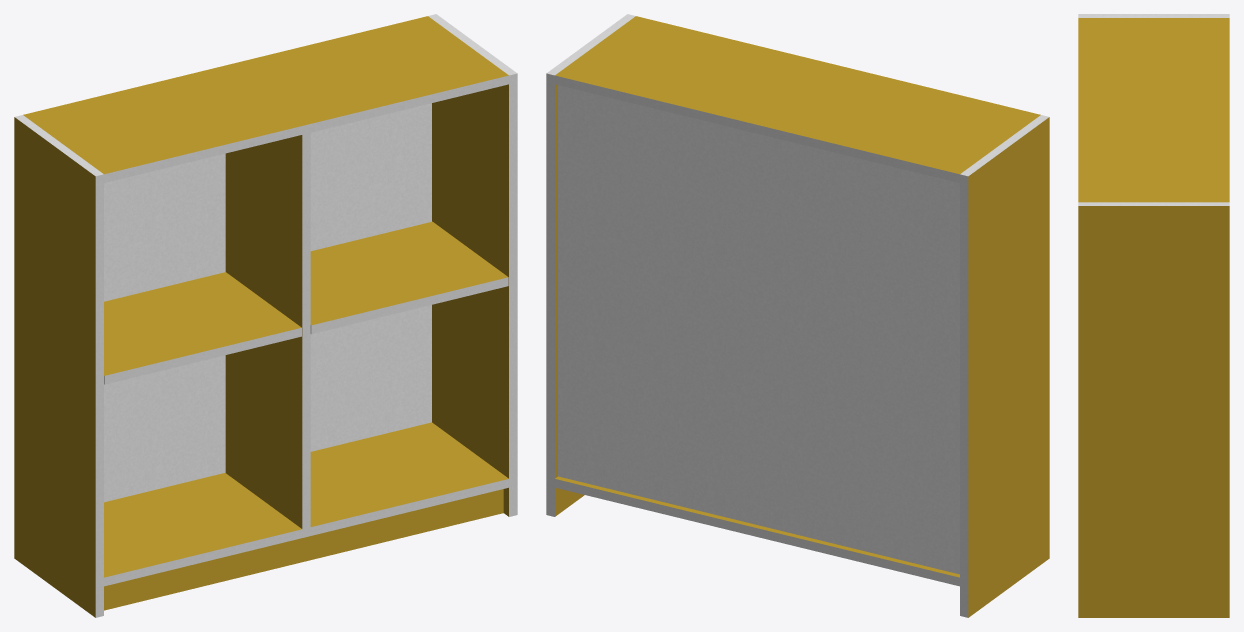
File: FET-KBK-low.glb
The picture shows the model from 3 angles, left to right: view 1: azimuth 30°, elevation 25°; view 2: azimuth 150°, elevation 25°; view 3: azimuth 270°, elevation 25°; orthographic projection. The views are drawn at different scales.
Parts seen in each view (by area): view 1: back:sheet:eyJtIjoibWRmIiwic2lkZSI6ImZhY2UiLCJzZWVkIjoxLCJ0a, side-l:pbr, top:pbr, bottom:pbr, partition:pbr, side-r:pbr, shelf-2:pbr, shelf-1:pbr, plinth:pbr, side-l:sheet:eyJtIjoibWRmIiwic2lkZSI6ImVkZ2UtbG9uZyIsInNlZWQ, side-r:sheet:eyJtIjoibWRmIiwic2lkZSI6ImVkZ2UtbG9uZyIsInNlZWQ, bottom:sheet:eyJtIjoibWRmIiwic2lkZSI6ImVkZ2UtbG9uZyIsInNlZWQ (+6 smaller); view 2: back:sheet:eyJtIjoibWRmIiwic2lkZSI6ImZhY2UiLCJzZWVkIjoxLCJ0a, side-l:pbr, top:pbr, side-l:sheet:eyJtIjoibWRmIiwic2lkZSI6ImVkZ2UtbG9uZyIsInNlZWQ, side-r:sheet:eyJtIjoibWRmIiwic2lkZSI6ImVkZ2UtbG9uZyIsInNlZWQ, bottom:sheet:eyJtIjoibWRmIiwic2lkZSI6ImVkZ2UtbG9uZyIsInNlZWQ, top:sheet:eyJtIjoibWRmIiwic2lkZSI6ImVkZ2UtbG9uZyIsInNlZWQiOj, side-r:pbr, bottom:pbr, side-r:sheet:eyJtIjoibWRmIiwic2lkZSI6ImVkZ2UtZW5kIiwic2VlZCI, side-l:sheet:eyJtIjoibWRmIiwic2lkZSI6ImVkZ2UtZW5kIiwic2VlZCI; view 3: side-r:pbr, top:pbr, side-l:sheet:eyJtIjoibWRmIiwic2lkZSI6ImVkZ2UtZW5kIiwic2VlZCI, side-r:sheet:eyJtIjoibWRmIiwic2lkZSI6ImVkZ2UtZW5kIiwic2VlZCI.
Boxes of the visible parts, x1,y1,x2,y2 form: back:sheet:eyJtIjoibWRmIiwic2lkZSI6ImZhY2UiLCJzZWVkIjoxLCJ0a: (104, 103, 431, 502); side-l:pbr: (14, 117, 95, 617); top:pbr: (23, 16, 508, 174); bottom:pbr: (104, 422, 508, 577); partition:pbr: (225, 135, 302, 528); side-r:pbr: (432, 84, 508, 516); shelf-2:pbr: (310, 221, 508, 325); shelf-1:pbr: (104, 272, 301, 375); plinth:pbr: (104, 489, 503, 610); side-l:sheet:eyJtIjoibWRmIiwic2lkZSI6ImVkZ2UtbG9uZyIsInNlZWQ: (95, 174, 103, 617); side-r:sheet:eyJtIjoibWRmIiwic2lkZSI6ImVkZ2UtbG9uZyIsInNlZWQ: (509, 73, 517, 516); bottom:sheet:eyJtIjoibWRmIiwic2lkZSI6ImVkZ2UtbG9uZyIsInNlZWQ: (104, 479, 508, 586); back:sheet:eyJtIjoibWRmIiwic2lkZSI6ImZhY2UiLCJzZWVkIjoxLCJ0a: (558, 85, 959, 574); side-l:pbr: (968, 117, 1049, 617); top:pbr: (555, 16, 1040, 174); side-l:sheet:eyJtIjoibWRmIiwic2lkZSI6ImVkZ2UtbG9uZyIsInNlZWQ: (960, 174, 968, 617); side-r:sheet:eyJtIjoibWRmIiwic2lkZSI6ImVkZ2UtbG9uZyIsInNlZWQ: (546, 73, 554, 516); bottom:sheet:eyJtIjoibWRmIiwic2lkZSI6ImVkZ2UtbG9uZyIsInNlZWQ: (555, 479, 959, 586); top:sheet:eyJtIjoibWRmIiwic2lkZSI6ImVkZ2UtbG9uZyIsInNlZWQiOj: (555, 75, 959, 182); side-r:pbr: (555, 84, 584, 516); bottom:pbr: (555, 476, 959, 577); side-r:sheet:eyJtIjoibWRmIiwic2lkZSI6ImVkZ2UtZW5kIiwic2VlZCI: (546, 14, 635, 75); side-l:sheet:eyJtIjoibWRmIiwic2lkZSI6ImVkZ2UtZW5kIiwic2VlZCI: (960, 115, 1048, 176); side-r:pbr: (1078, 206, 1229, 617); top:pbr: (1078, 18, 1229, 202); side-l:sheet:eyJtIjoibWRmIiwic2lkZSI6ImVkZ2UtZW5kIiwic2VlZCI: (1078, 14, 1229, 17); side-r:sheet:eyJtIjoibWRmIiwic2lkZSI6ImVkZ2UtZW5kIiwic2VlZCI: (1078, 202, 1229, 205).
Size of the model in its own units: 0.9 by 0.9 by 0.3.
Materials: 27 (19 with a texture image).
